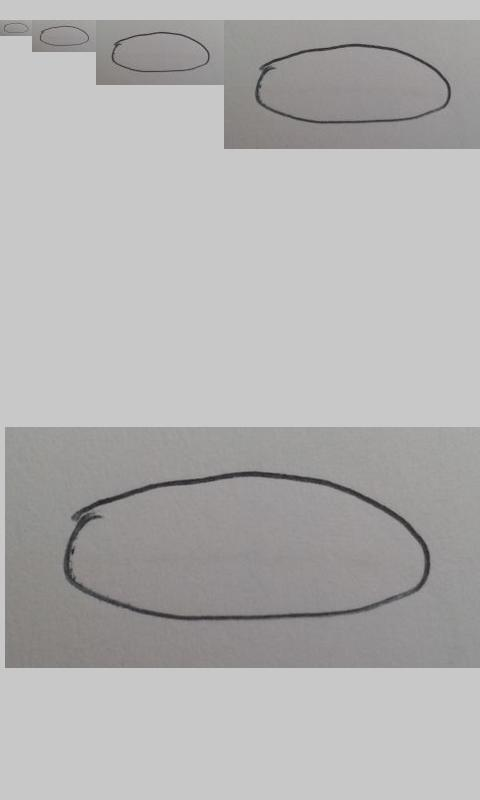chip: (64, 472, 431, 623), (255, 44, 453, 125), (111, 32, 211, 73), (39, 25, 90, 47), (3, 23, 29, 34)
